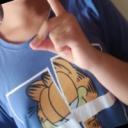hand: (29, 0, 90, 71)
